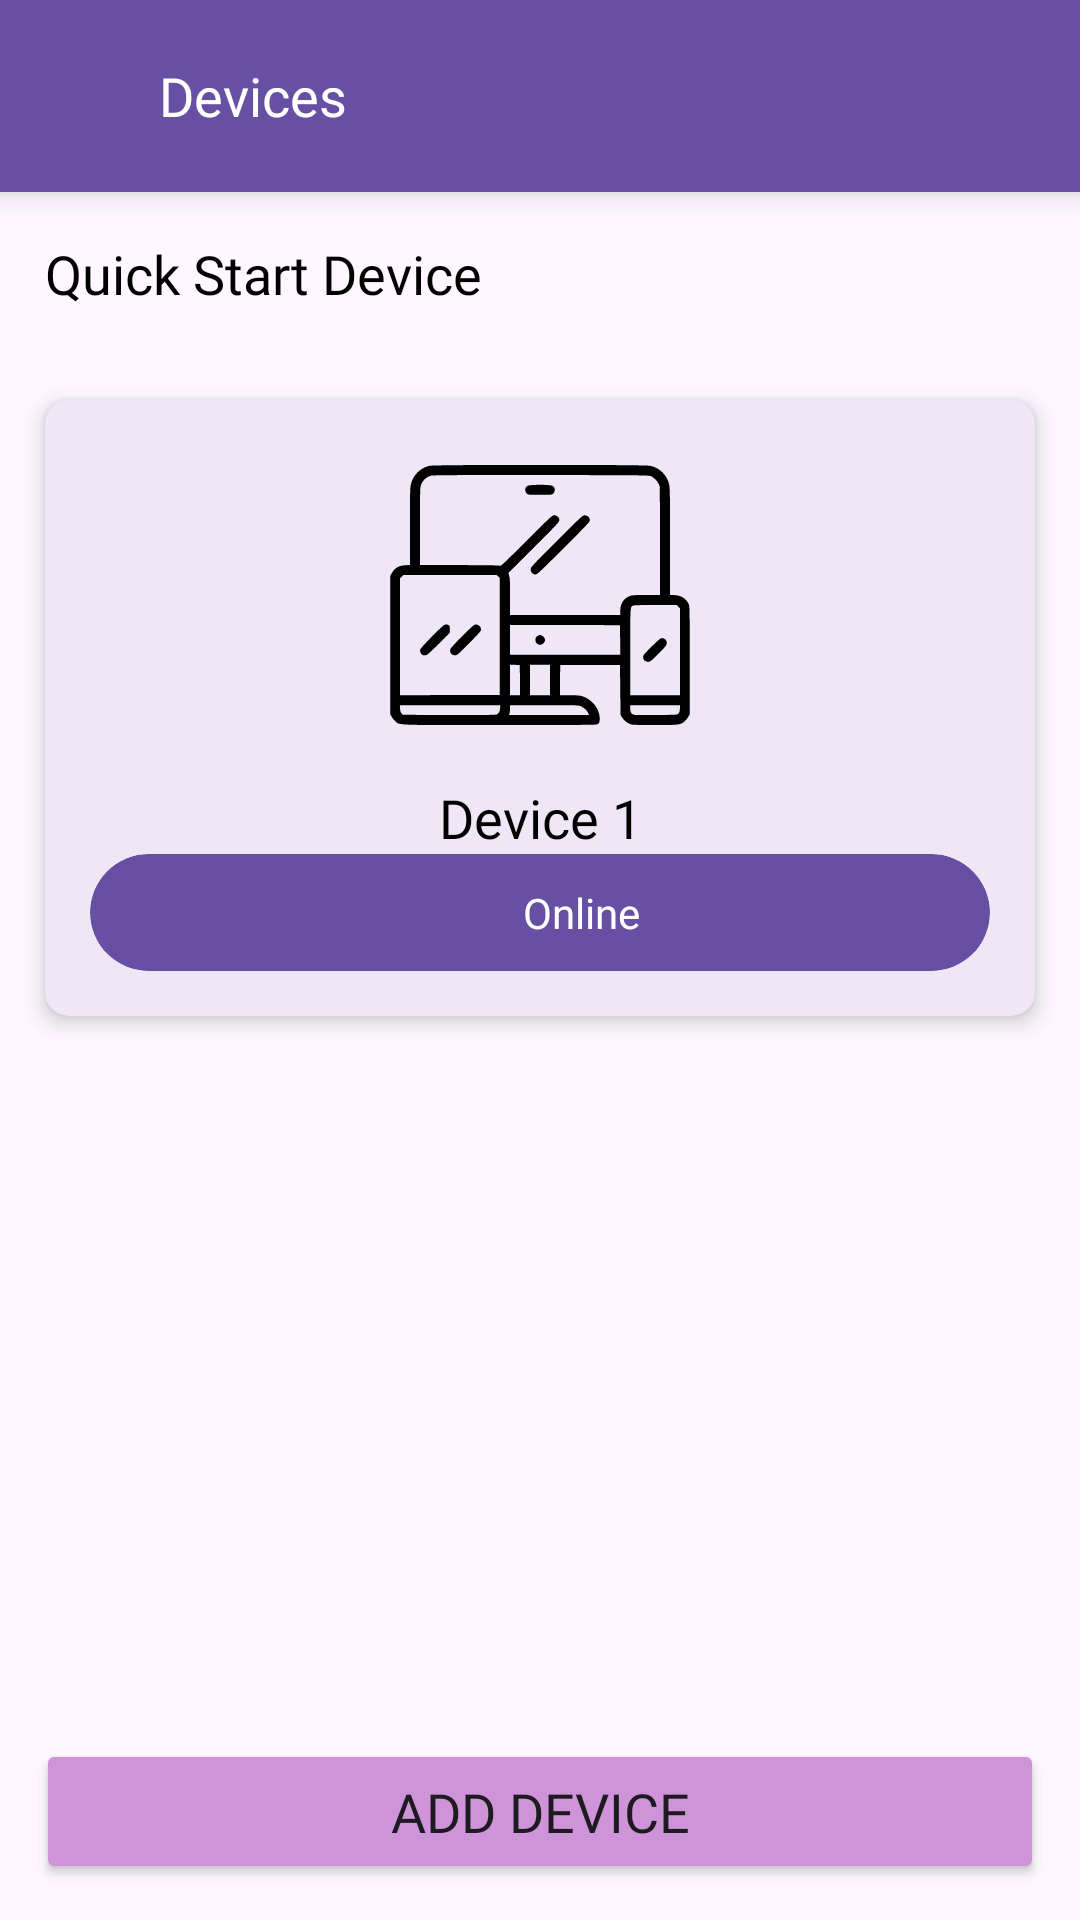

Where to tap for icons on this 1080x1920 app screen, as (x=x, y=y):
responsive: (x=540, y=595)
